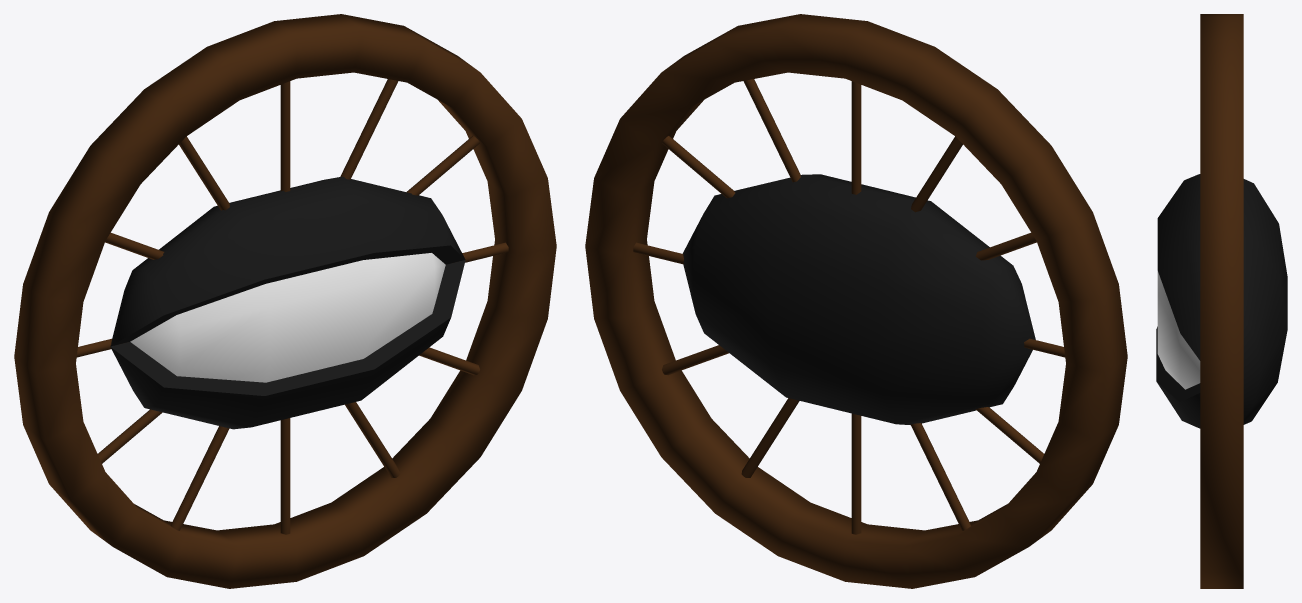
Rendered from BossWheelSplitSmall.FBX.
3 views of the same model, side by side, from view 1: azimuth 30°, elevation 25°; view 2: azimuth 150°, elevation 25°; view 3: azimuth 270°, elevation 25° (orthographic). The views are drawn at different scales.
Visible parts, largest first — view 1: wheelOuter, wheelEye1; view 2: wheelOuter, wheelEye1; view 3: wheelOuter, wheelEye1.
Part boxes in pixels (x1,y1,x2,y2): wheelOuter: [14, 14, 556, 588]; wheelEye1: [110, 176, 465, 429]; wheelOuter: [585, 14, 1127, 588]; wheelEye1: [682, 174, 1035, 424]; wheelOuter: [1200, 14, 1243, 588]; wheelEye1: [1156, 174, 1287, 428].
Bounding box in the file's own units: 42.94 × 42.94 × 9.78.
